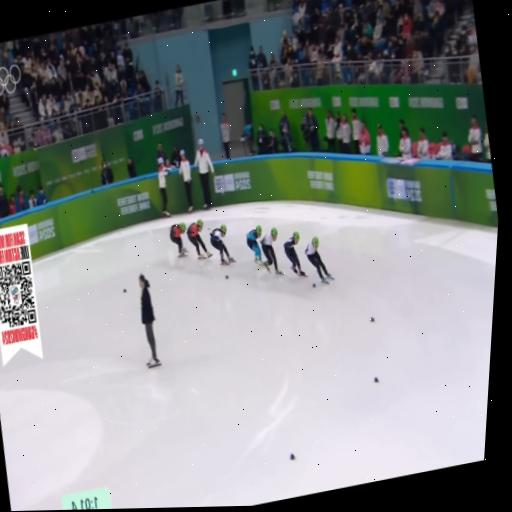Skater: (305, 237, 332, 283), (283, 231, 305, 277), (260, 228, 281, 274), (186, 220, 211, 258), (209, 226, 233, 264), (246, 225, 261, 265), (169, 224, 186, 257)
